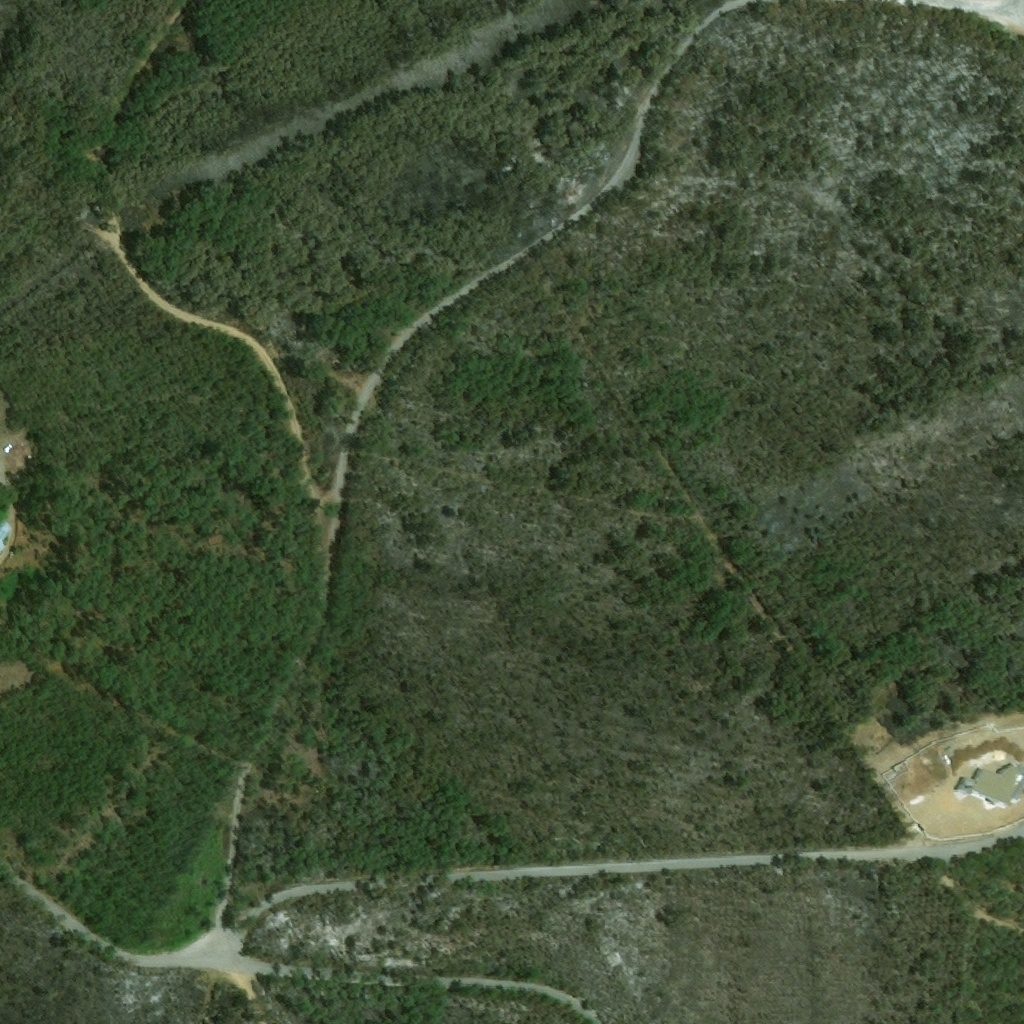0 no-damage: (955, 762, 1023, 805)
4 un-classified: (71, 197, 95, 224)
